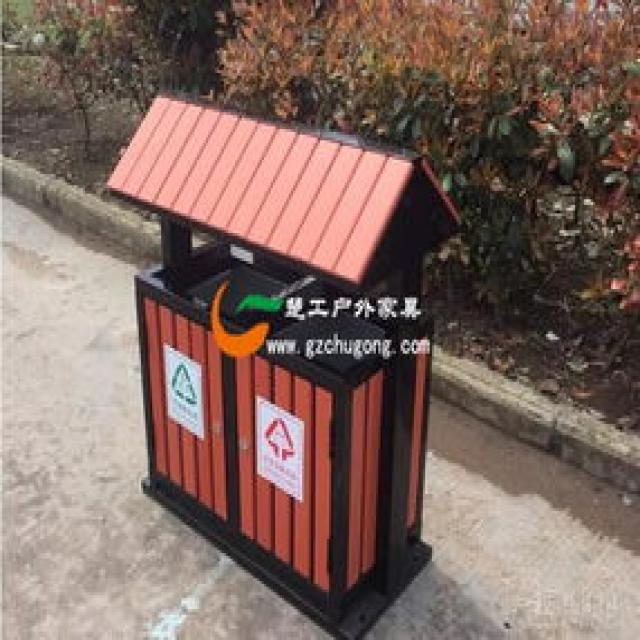garbage_bin: (100, 87, 458, 637)
